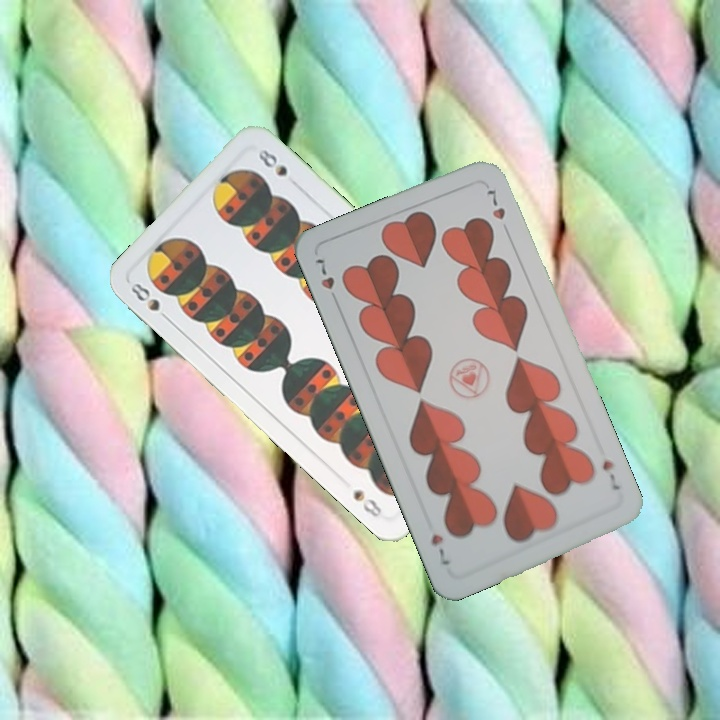H7: (310, 254, 342, 307), (598, 456, 623, 493)
S8: (126, 278, 174, 325)
